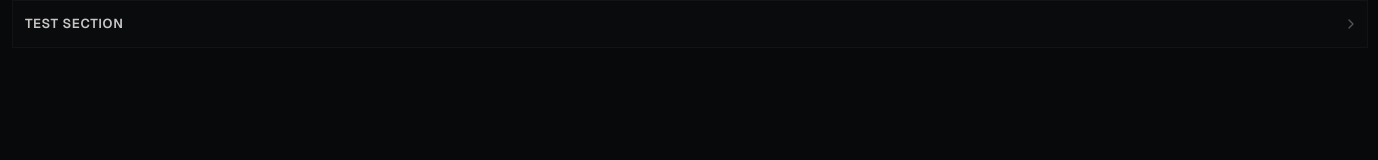
Test: CollapsibleSection › expands when trigger is clicked on collapsed section
# Click to expand
Click the button with test id "test-section-trigger" at (74, 24), box left=13, top=6, right=1331, bottom=42
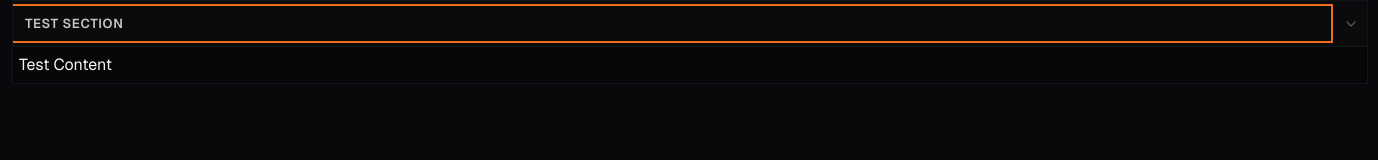
Result: the text "Test Content" is shown at left=19, top=54, right=112, bottom=75
